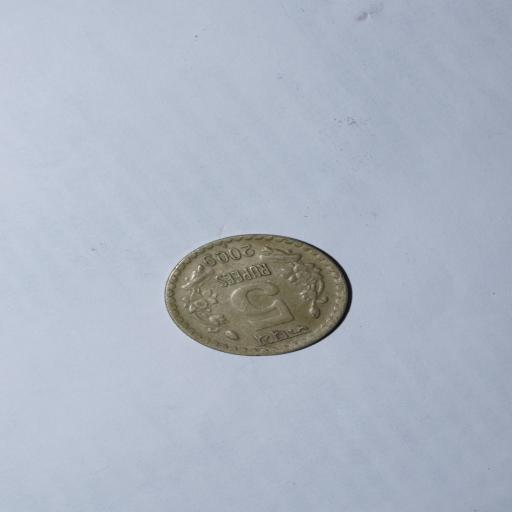rupee5: (162, 233, 349, 356)
